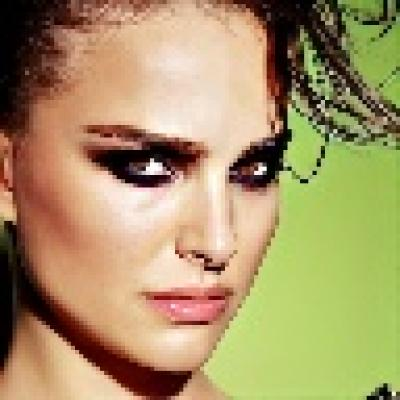angry: (32, 3, 286, 364)
